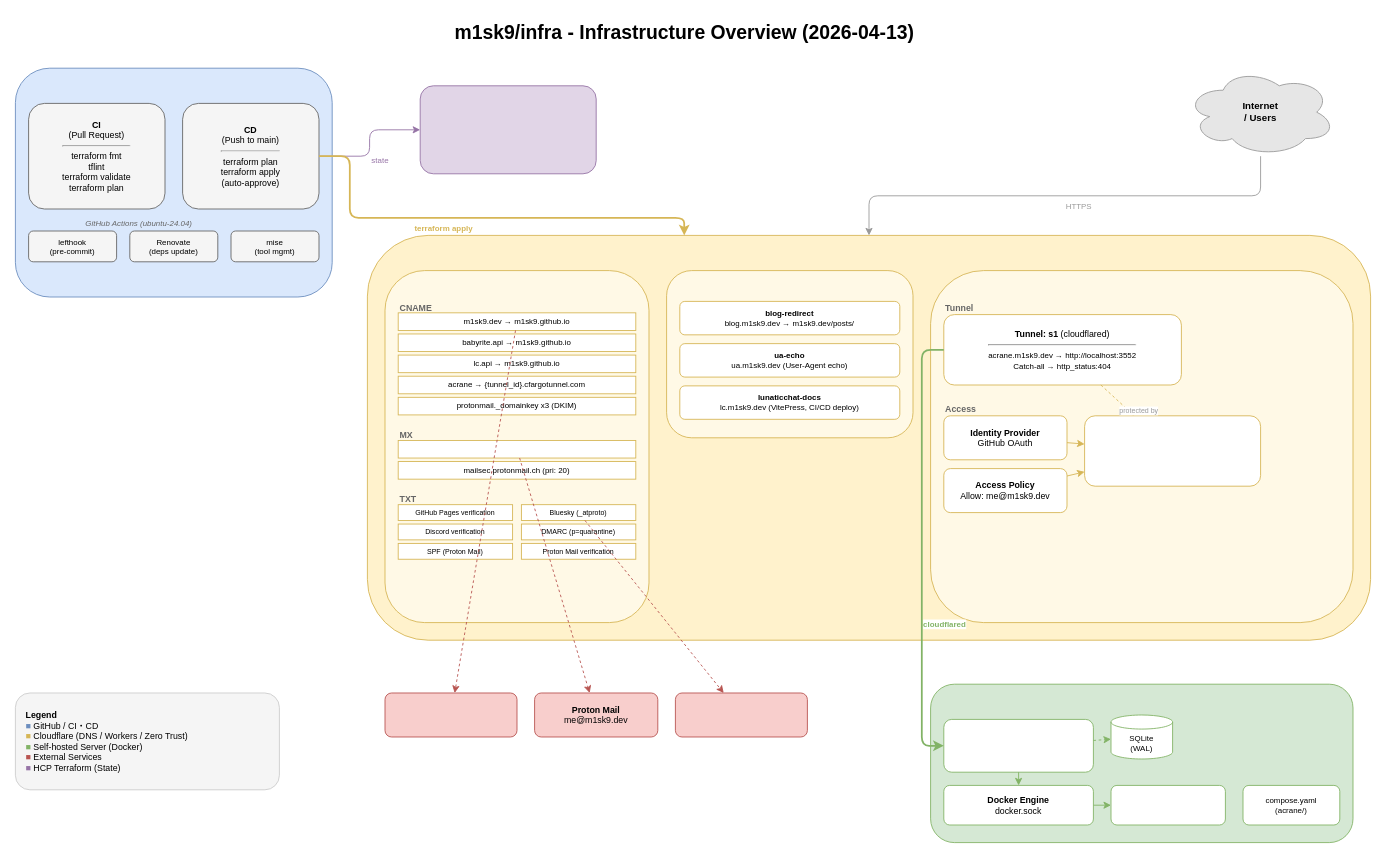
The diagram is 1386 pixels wide and 858 high, and some of its shapes have lost their labels. Here are the shapes that lost their labels. From the top down, the box of each, then its label:
(419, 85, 596, 174): HCP Terraform Org: m1sk9-terraform-org Workspace: infra (Remote State)
(15, 67, 332, 297): GitHub (m1sk9/infra)
(666, 270, 913, 438): Workers (Custom Domain)
(384, 270, 649, 623): DNS Records
(397, 440, 636, 458): mail.protonmail.ch (pri: 10)
(367, 235, 1371, 640): Cloudflare (m1sk9.dev) — Terraform Cloudflare Provider v5.18.0
(930, 270, 1353, 623): Zero Trust
(1084, 415, 1261, 486): Access Application Arcane acrane.m1sk9.dev (self_hosted, 24h session)
(384, 692, 517, 737): GitHub Pages m1sk9.github.io
(675, 692, 807, 737): Bluesky / Discord Domain Verification
(943, 719, 1093, 772): Arcane v1.17.3 Port: 3552 Container Management UI
(930, 683, 1353, 843): Self-hosted Server (s1)
(1110, 785, 1225, 825): Stacks (/opt/stacks)
